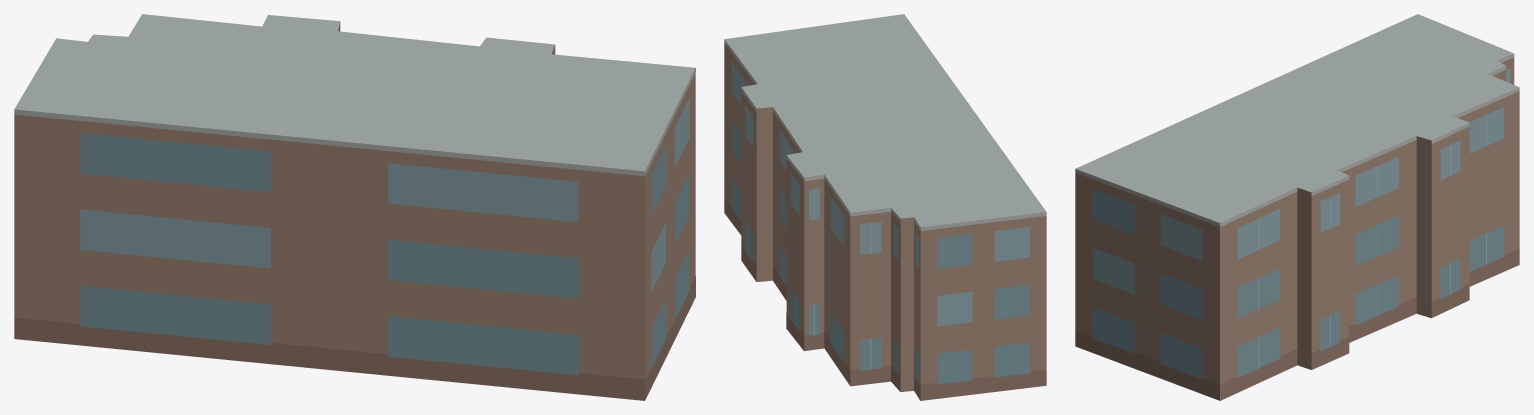
The model's file is survey-upis-32471021.glb.
The picture shows the model from 3 angles, left to right: view 1: azimuth 30°, elevation 25°; view 2: azimuth 150°, elevation 25°; view 3: azimuth 270°, elevation 25°; orthographic projection. The views are drawn at different scales.
Parts seen in each view (by area): view 1: survey-upis-32471021.tmp; view 2: survey-upis-32471021.tmp; view 3: survey-upis-32471021.tmp.
Part boxes in pixels (x1,y1,x2,y2): survey-upis-32471021.tmp: [14, 14, 695, 400]; survey-upis-32471021.tmp: [724, 14, 1046, 400]; survey-upis-32471021.tmp: [1075, 14, 1519, 400].
Bounding box in the file's own units: 28.19 × 11.16 × 25.29.
